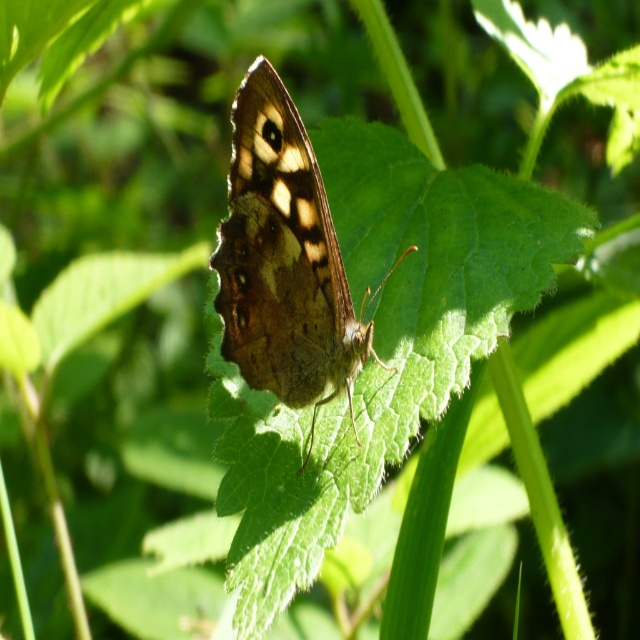Butterfly: (211, 50, 404, 428)
